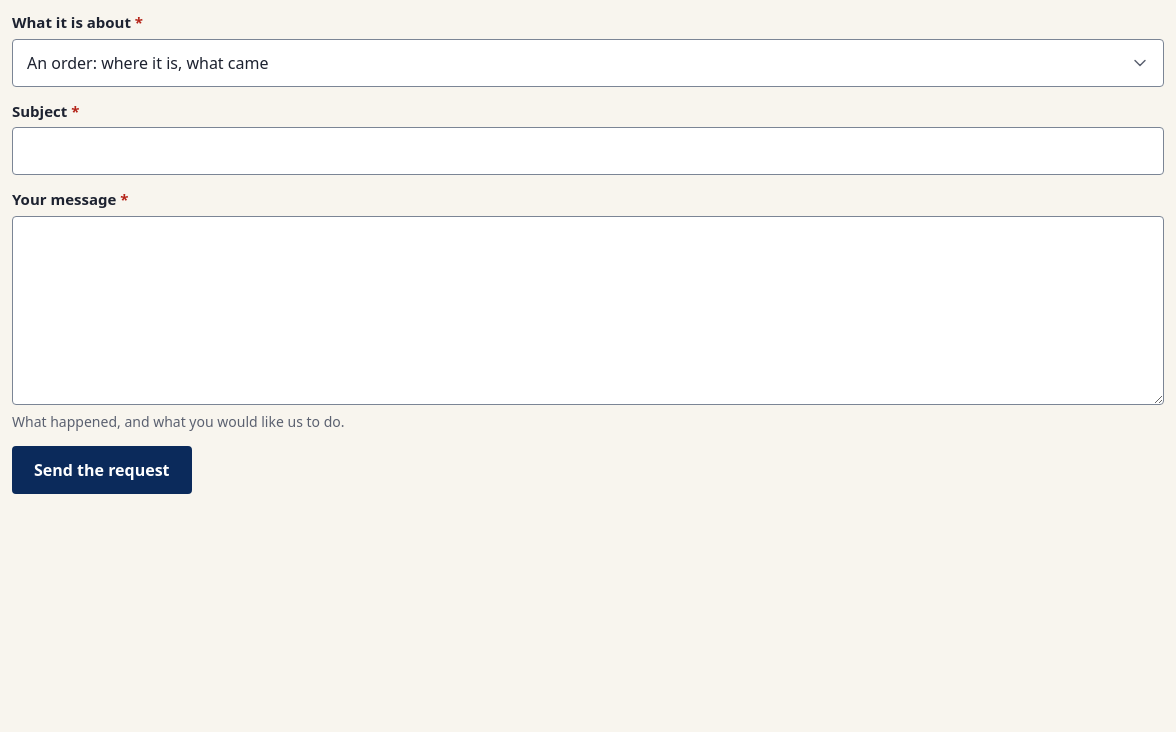
RequestForm › says why when the email address is not confirmed yet
Type "A question" into the field labelled "Subject *" at [588, 151], box [12,127,1164,175]
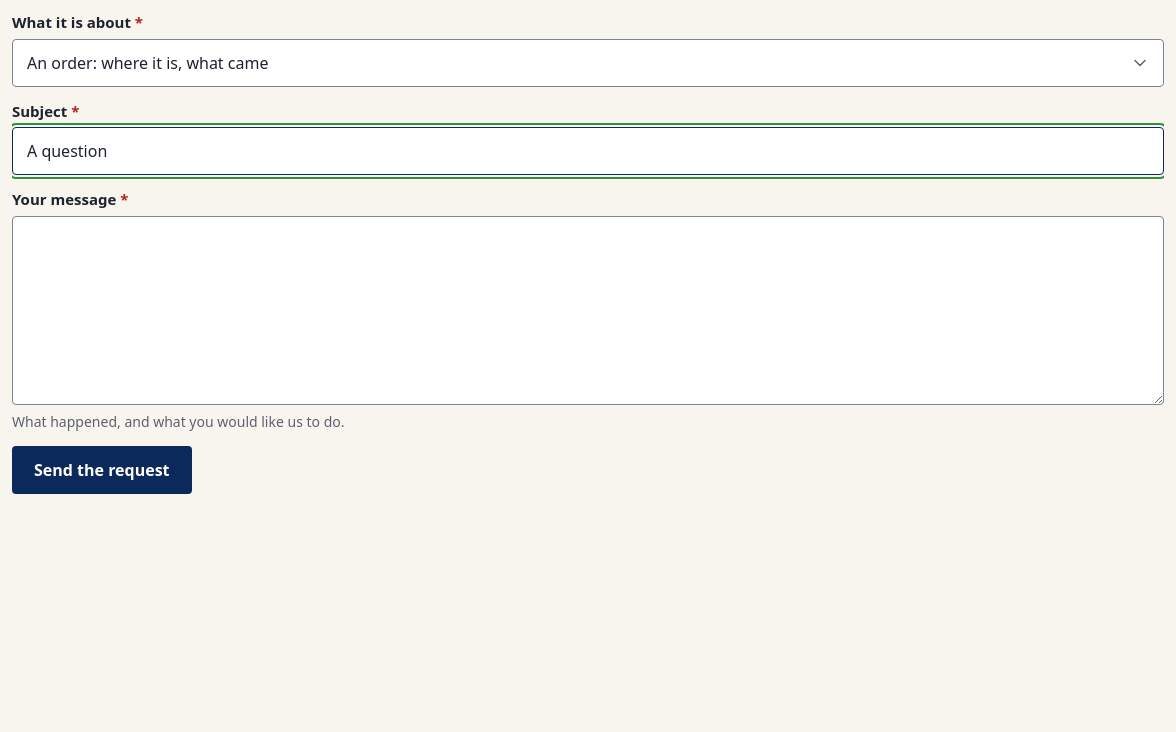
Type "Hello." into the text box labelled "Your message *" at [588, 310], box [12,216,1164,405]
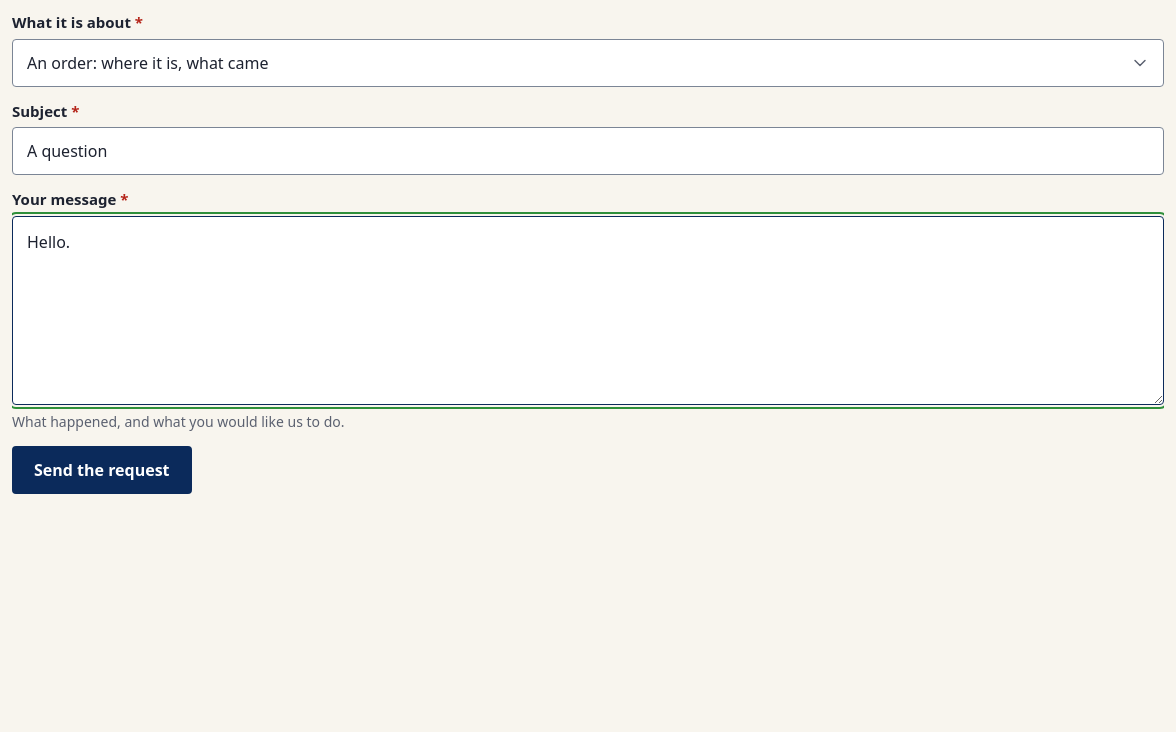
Click the button "Send the request" at [102, 470], box [12,446,192,494]
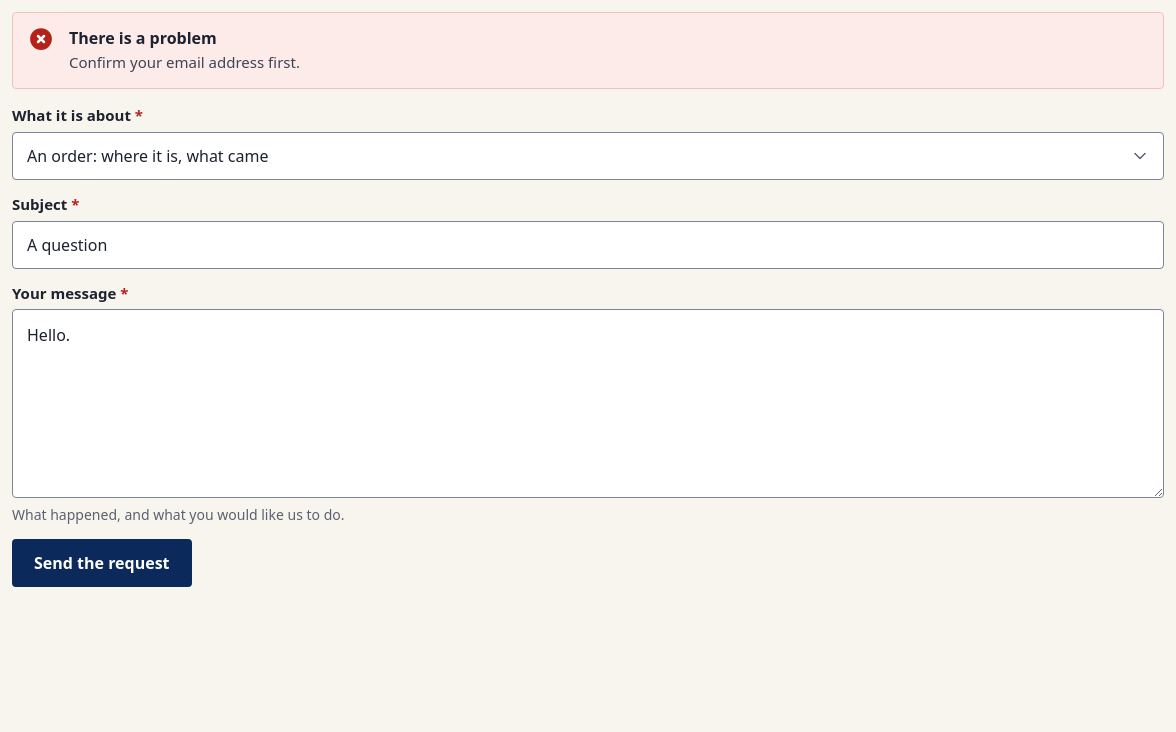
Expected: the text "Confirm your email address first." is shown, [69,52,300,72]
